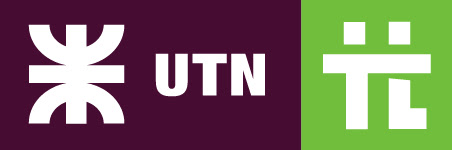utn: (26, 17, 129, 127)
